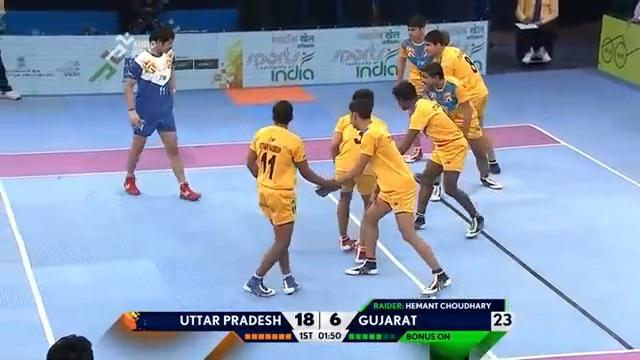Player: (315, 89, 451, 295), (242, 99, 338, 297), (391, 80, 484, 238), (417, 29, 503, 193), (121, 26, 201, 201), (393, 15, 435, 162)
referee: (513, 0, 557, 64), (0, 0, 22, 100), (46, 333, 93, 359)
